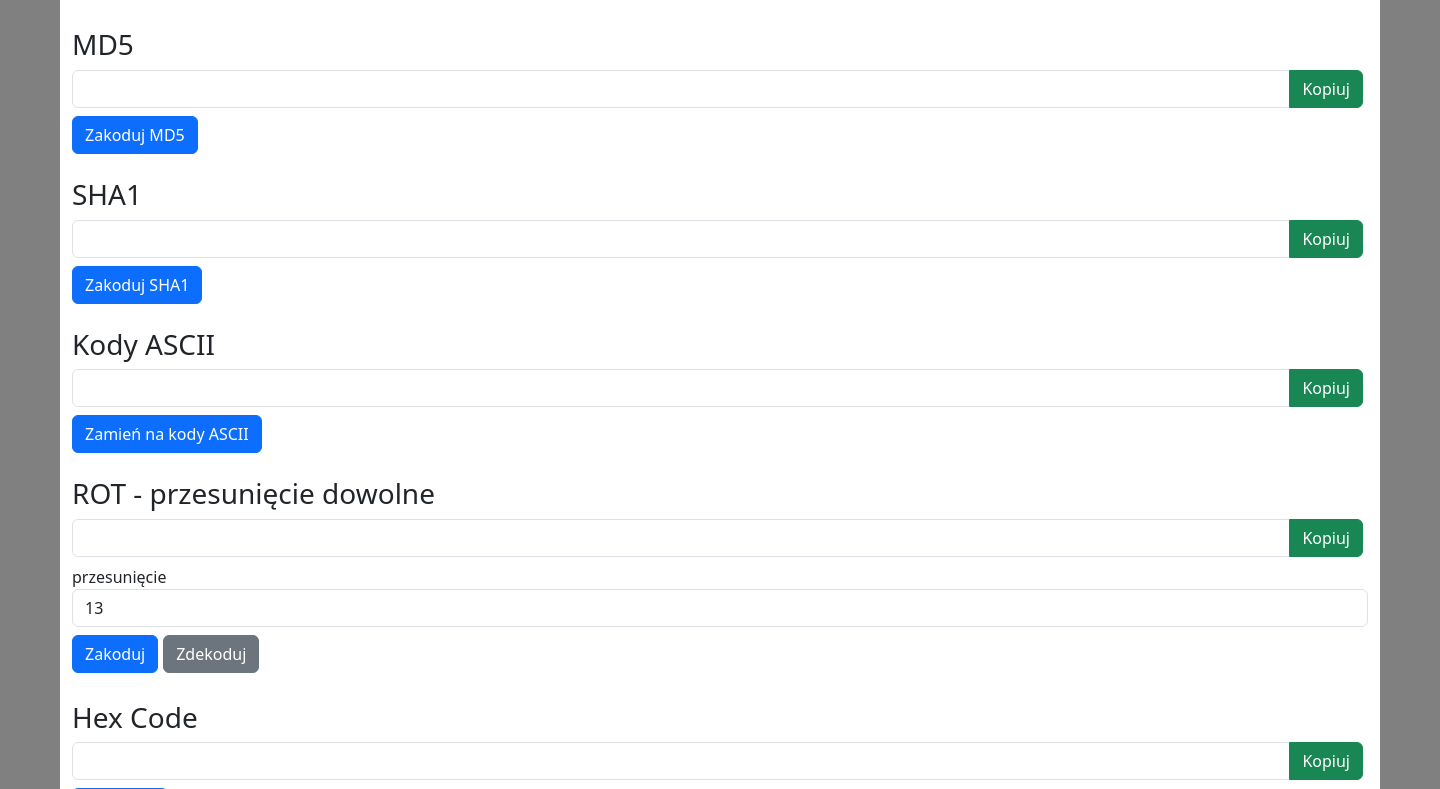
Test: App Component Tests › sprawdź ASCII
(page scrolled)
Type "abcd" into the 3rd field named "input_ascii" at (681, 388), box [72,369,1290,407]
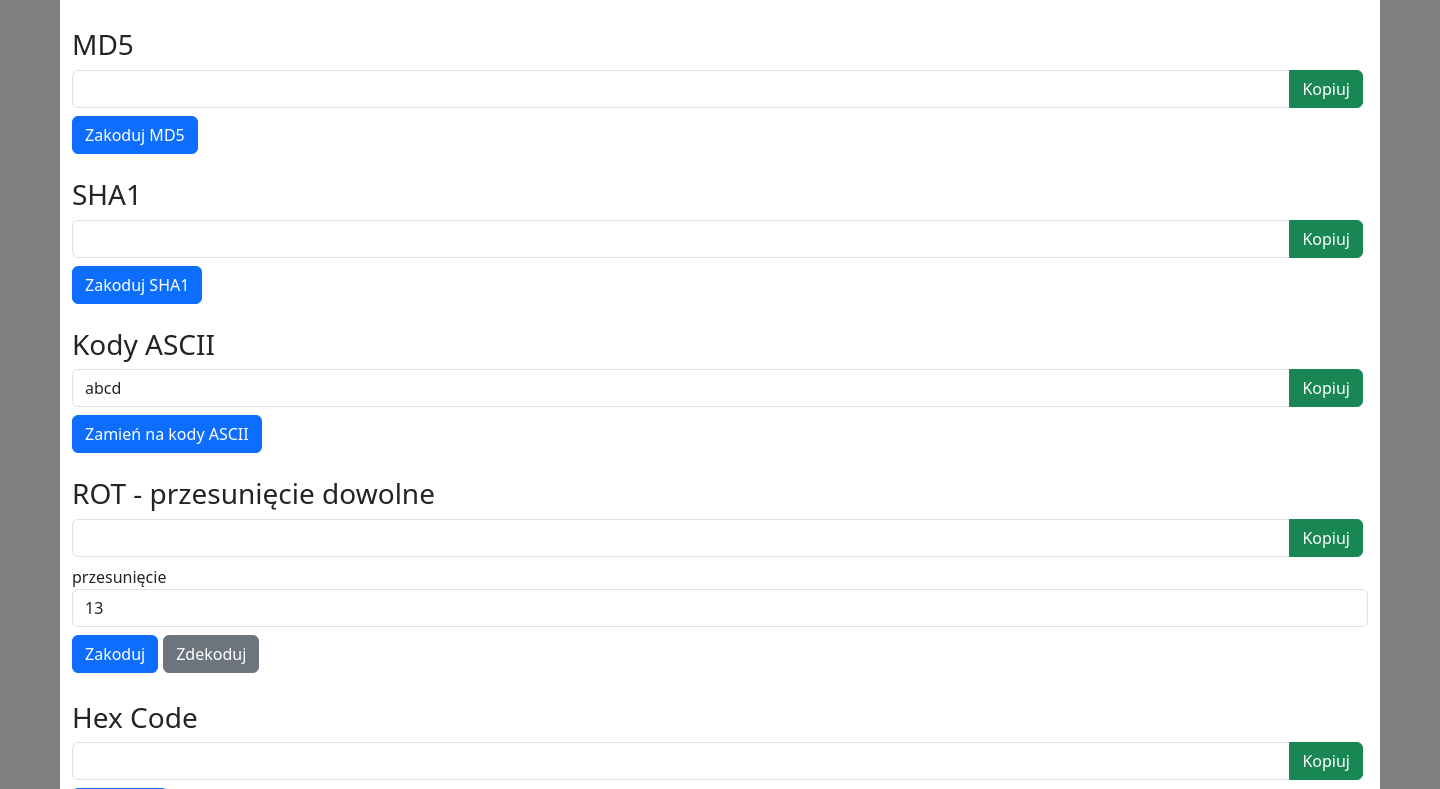
Click the button "Zamień na kody ASCII" at (167, 434), box [72,415,262,453]
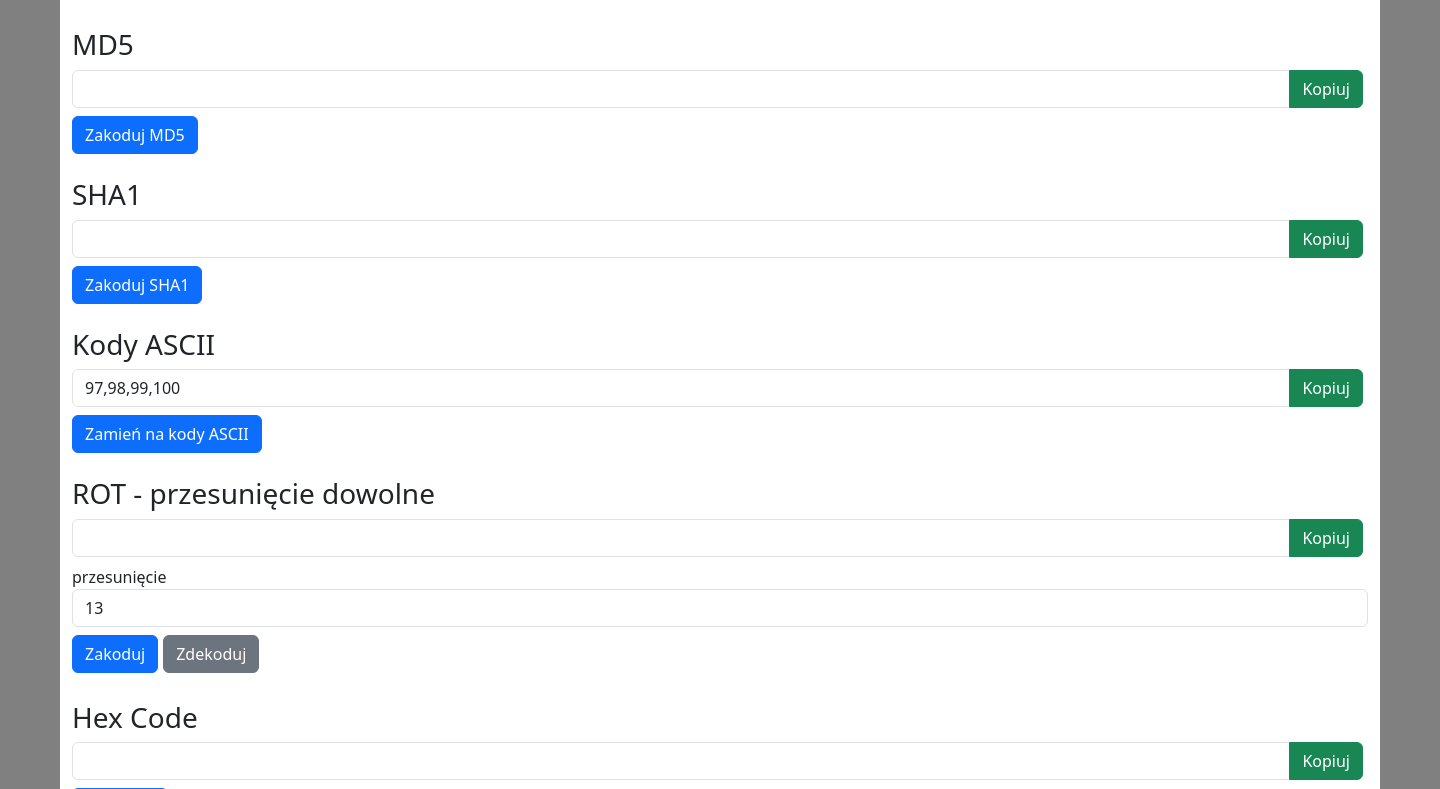
Expected: the 3rd field named "input_ascii" holds "97,98,99,100", [72,369,1290,407]
